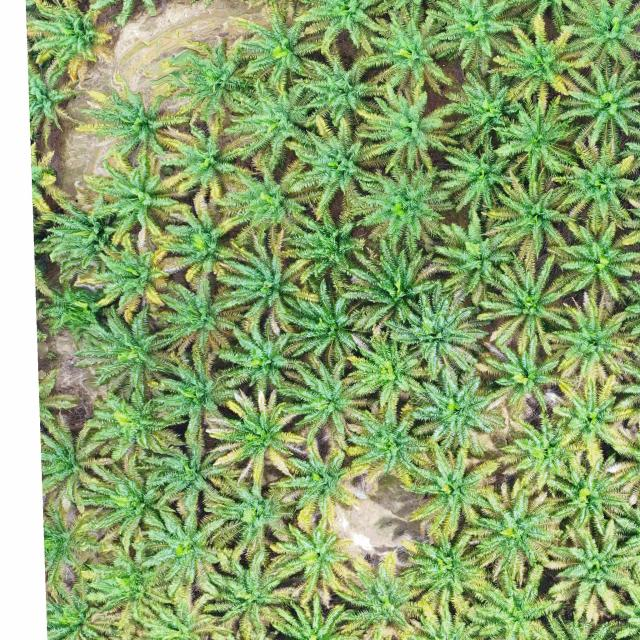Tree: (68, 449, 188, 555), (539, 513, 640, 628), (464, 475, 570, 582), (80, 373, 192, 471), (353, 80, 462, 180), (475, 254, 581, 356), (75, 305, 184, 403), (205, 389, 304, 496), (81, 152, 191, 248), (193, 542, 298, 640), (334, 241, 442, 336), (397, 440, 502, 537), (133, 420, 234, 520), (147, 341, 244, 444), (352, 159, 458, 253), (543, 371, 640, 472), (200, 464, 302, 560), (126, 500, 226, 597), (287, 113, 378, 218), (428, 208, 520, 311), (221, 75, 319, 171), (385, 292, 489, 382), (279, 278, 379, 370), (148, 116, 252, 204), (77, 548, 181, 636), (492, 406, 592, 497), (482, 171, 583, 261), (361, 2, 456, 97), (552, 134, 640, 236), (208, 158, 311, 245), (492, 18, 596, 104), (330, 547, 426, 640), (398, 368, 506, 450), (272, 354, 370, 443), (214, 229, 305, 324), (557, 52, 640, 155), (291, 40, 391, 125), (346, 397, 438, 489), (68, 234, 171, 316), (547, 218, 640, 308), (41, 411, 118, 518), (34, 192, 125, 282), (215, 315, 316, 396), (151, 273, 246, 359), (464, 559, 564, 640), (473, 336, 575, 414), (267, 441, 363, 522), (544, 449, 633, 533), (425, 0, 520, 77), (441, 66, 526, 152), (343, 320, 429, 404), (155, 200, 243, 282), (284, 205, 369, 289), (494, 96, 580, 179), (551, 298, 638, 379), (397, 527, 487, 605), (436, 135, 520, 218), (269, 513, 355, 592), (27, 0, 112, 74), (557, 0, 640, 74), (36, 279, 94, 338)
